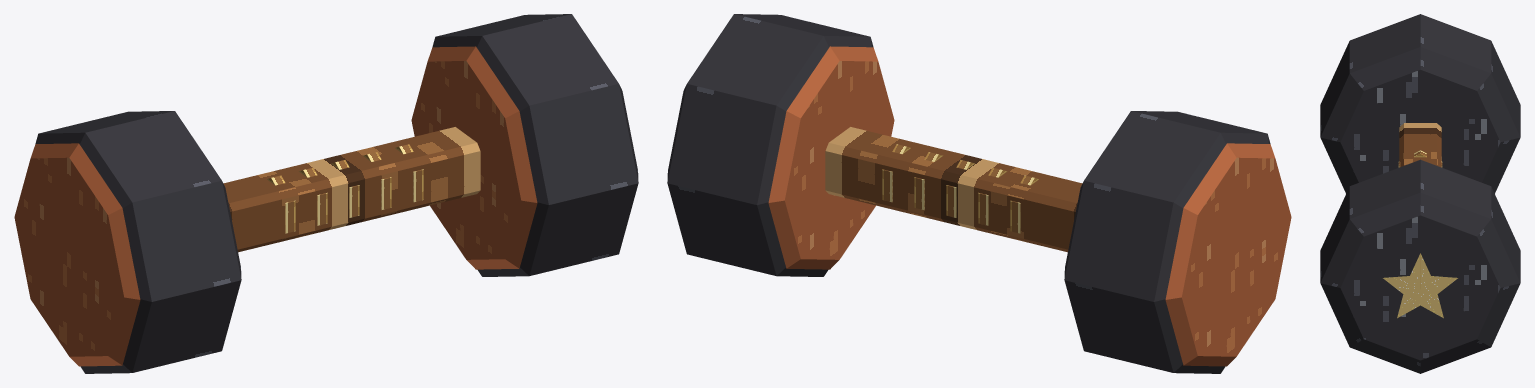
Rendered from prop_dumbbell.glb.
3 renders of one model, left to right at view 1: azimuth 30°, elevation 25°; view 2: azimuth 150°, elevation 25°; view 3: azimuth 270°, elevation 25°, orthographic. The views are drawn at different scales.
Parts seen in each view (by area): view 1: prop_dumbbell; view 2: prop_dumbbell; view 3: prop_dumbbell.
Boxes of the visible parts, left/top/right/bottom form: prop_dumbbell: left=14, top=14, right=638, bottom=373; prop_dumbbell: left=667, top=14, right=1291, bottom=373; prop_dumbbell: left=1320, top=14, right=1520, bottom=373.
Bounding box in the file's own units: 9 × 4 × 4.
Materials: 1 (1 with a texture image).
